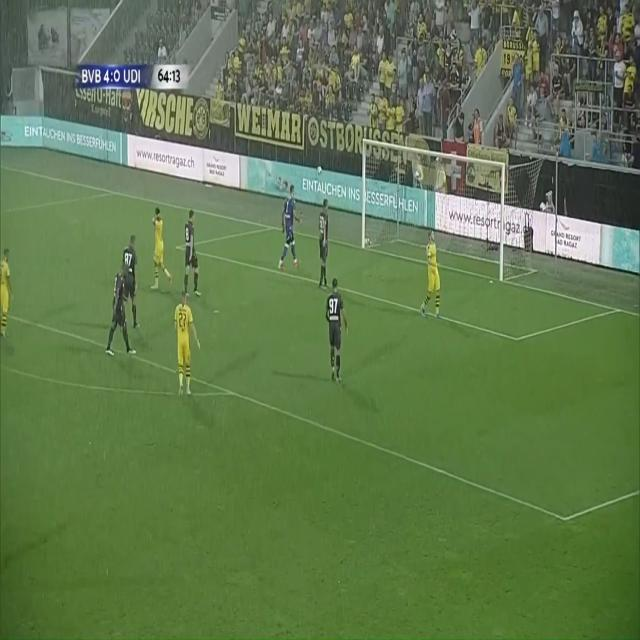goalkeeper: (280, 185, 302, 278)
player: (106, 264, 144, 365), (171, 277, 200, 403), (323, 276, 353, 381), (180, 209, 208, 309), (420, 220, 446, 325), (313, 198, 336, 299), (123, 233, 141, 336), (153, 212, 170, 293), (1, 242, 15, 338)
